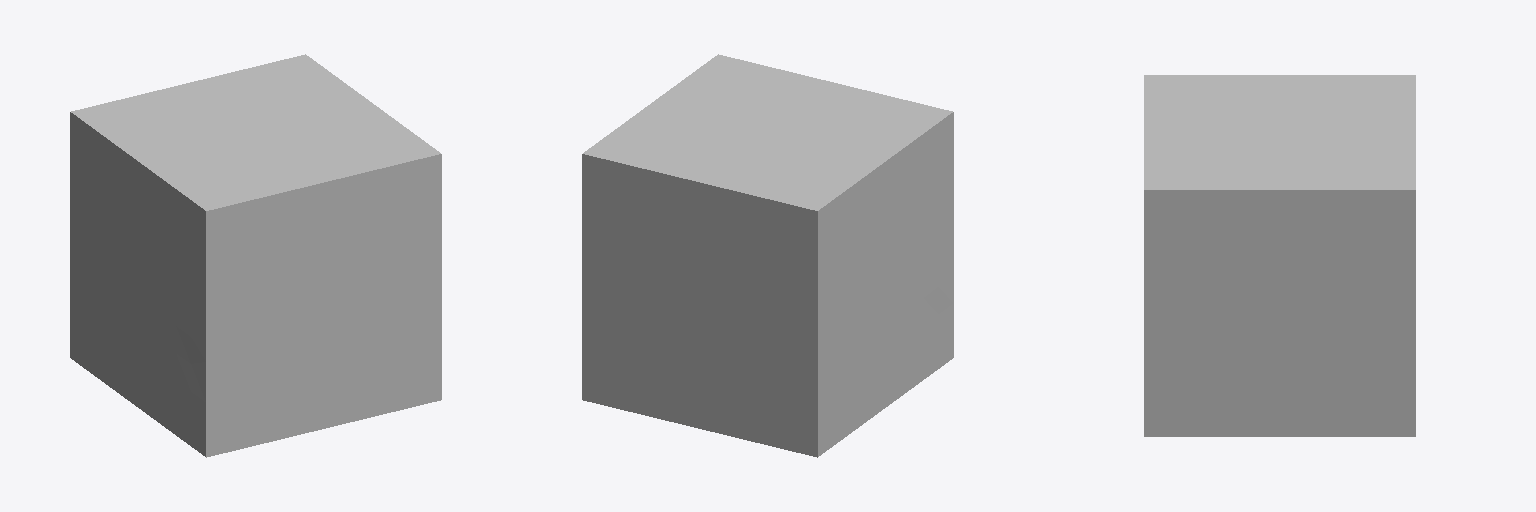
The model's file is Section2_Part1_IsolatedTriangles_ExportTest_SubDQuality_Off.obj.
3 renders of one model, left to right at view 1: azimuth 30°, elevation 25°; view 2: azimuth 150°, elevation 25°; view 3: azimuth 270°, elevation 25°, orthographic.
Visible parts, largest first — view 1: Cube_Cube.001; view 2: Cube_Cube.001; view 3: Cube_Cube.001.
Part boxes in pixels (bbox=[...]): Cube_Cube.001: bbox=[70, 54, 441, 457]; Cube_Cube.001: bbox=[582, 54, 953, 457]; Cube_Cube.001: bbox=[1144, 75, 1415, 436].
Size of the model in its own units: 2.11 by 2.11 by 2.11.